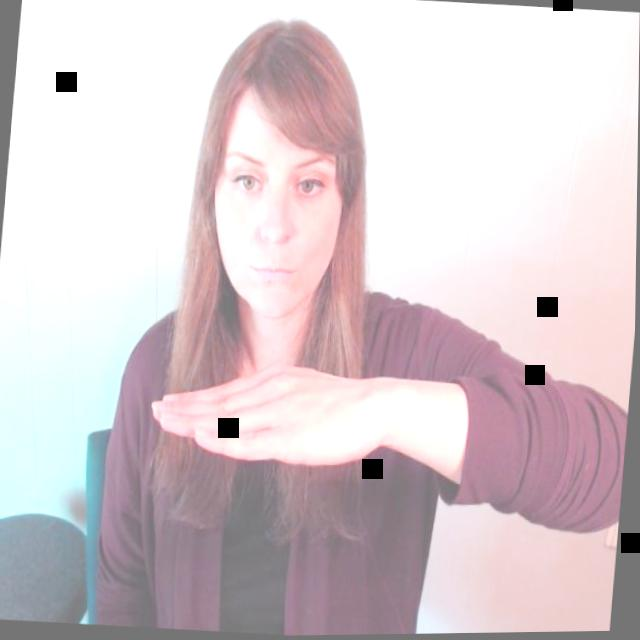Paper: (144, 343, 390, 482)
